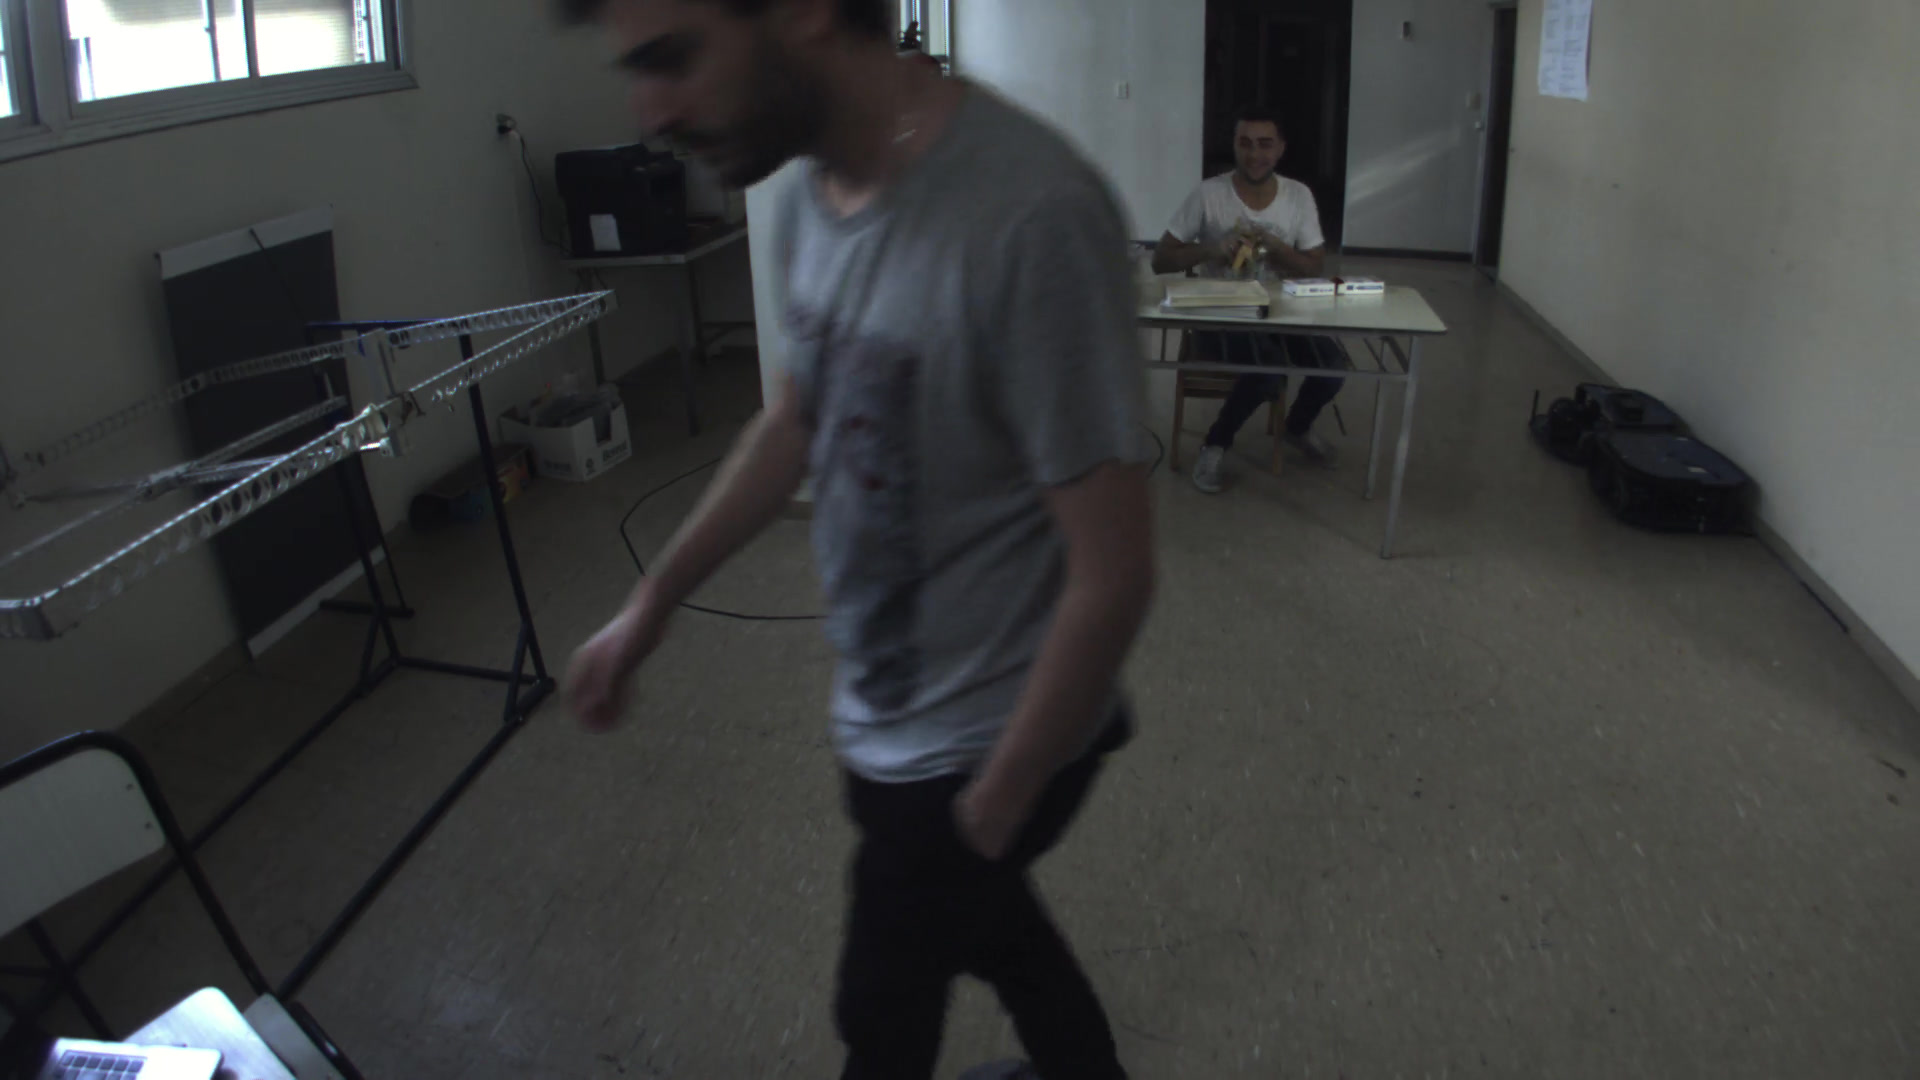hand: (551, 597, 669, 735)
